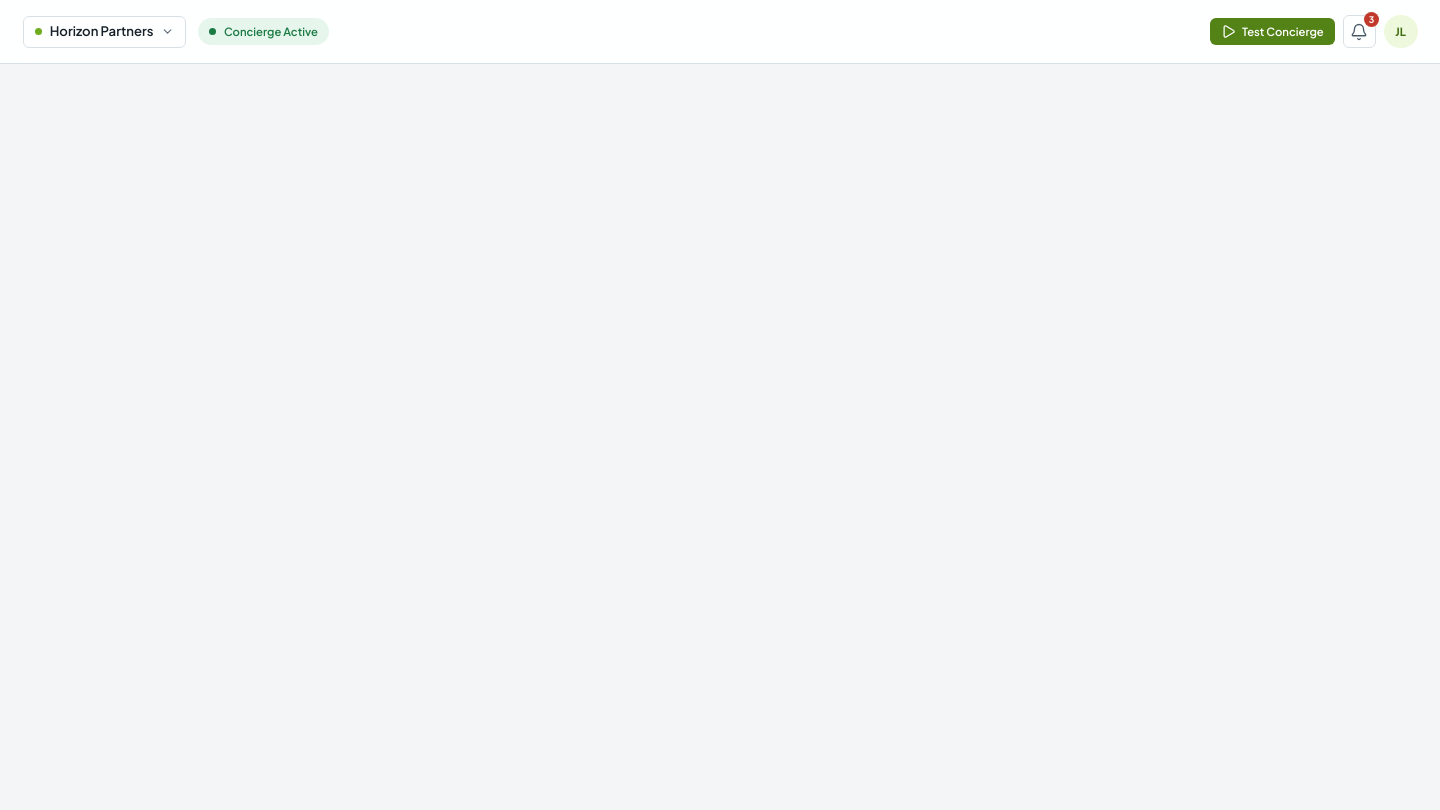
Test: Topbar › opens the test drawer instead of navigating
Step 1. Click the button "Test Concierge" → point(1273, 32), box [1210,18,1335,45]
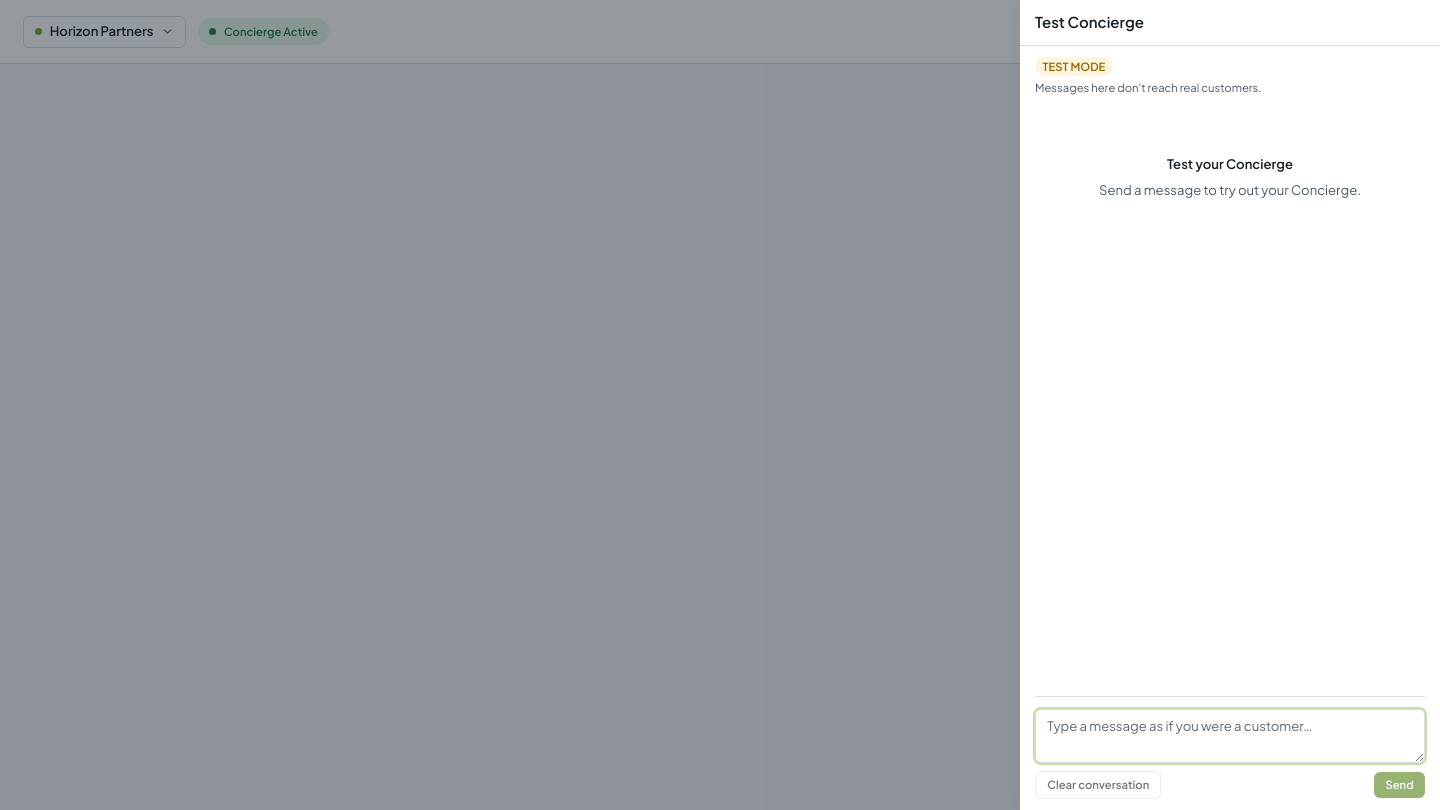
Now the dialog "Test Concierge" is shown, box [1020,0,1439,809]
